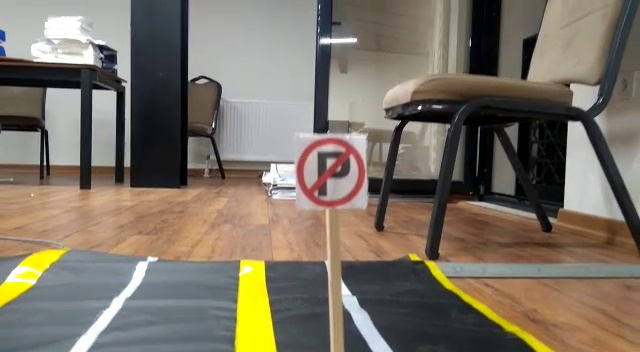park_yapilmaz: (295, 134, 365, 205)
